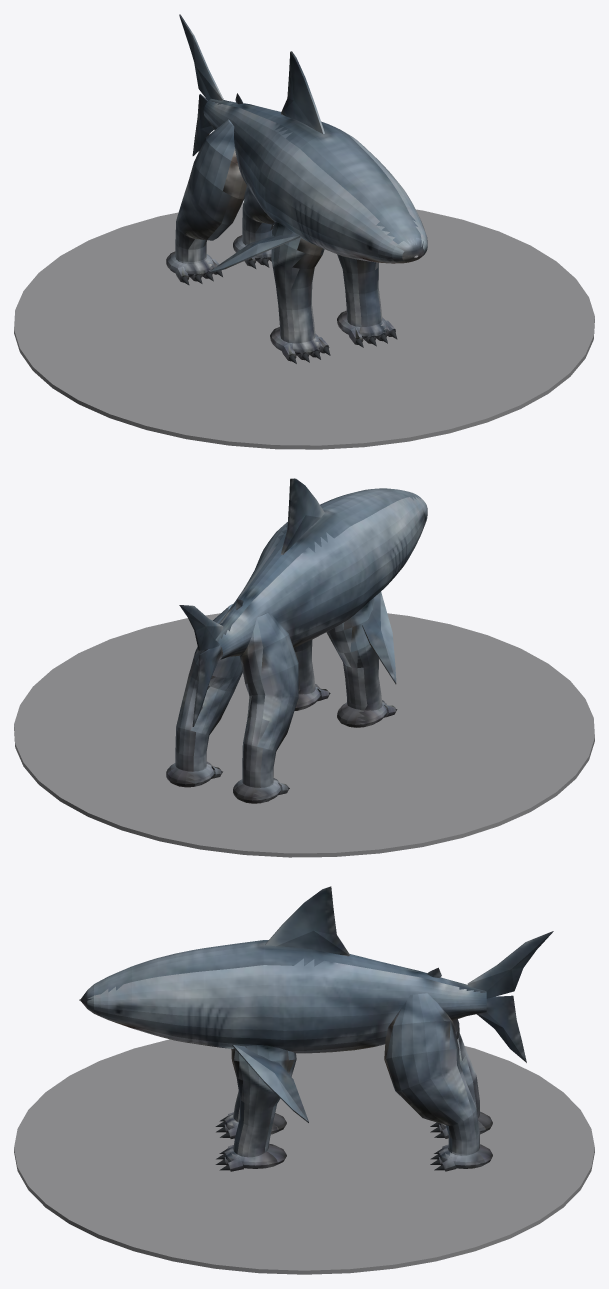
Rendered from tiburon_patas.glb.
3 views of the same model, one above another, from view 1: azimuth 30°, elevation 25°; view 2: azimuth 150°, elevation 25°; view 3: azimuth 270°, elevation 25° (orthographic).
Parts seen in each view (by area): view 1: TB_Suelo, TB_Cuerpo, TB_Pata_Tras_-1, TB_Pata_Del_-1, TB_Pata_Del_1, TB_Aleta_Dorsal, TB_Pata_Tras_1, TB_Cola_Alta, TB_Aleta_Pectoral_-1, TB_Cola_Baja, TB_PieT_-1_Planta, TB_PieD_1_Planta (+1 smaller); view 2: TB_Suelo, TB_Cuerpo, TB_Pata_Tras_-1, TB_Pata_Tras_1, TB_Pata_Del_-1, TB_Aleta_Dorsal, TB_Aleta_Pectoral_-1, TB_Cola_Alta, TB_Cola_Baja, TB_Pata_Del_1, TB_PieD_-1_Planta, TB_PieT_-1_Planta (+1 smaller); view 3: TB_Suelo, TB_Cuerpo, TB_Pata_Tras_1, TB_Pata_Del_1, TB_Aleta_Dorsal, TB_Cola_Alta, TB_Aleta_Pectoral_1, TB_Cola_Baja, TB_PieD_1_Planta, TB_Pata_Tras_-1, TB_PieT_1_Planta.
Boxes of the visible parts, x1=… form: TB_Suelo: x1=14, y1=202, x2=594, y2=449; TB_Cuerpo: x1=203, y1=98, x2=427, y2=263; TB_Pata_Tras_-1: x1=175, y1=119, x2=247, y2=263; TB_Pata_Del_-1: x1=271, y1=222, x2=324, y2=343; TB_Pata_Del_1: x1=337, y1=254, x2=382, y2=327; TB_Aleta_Dorsal: x1=281, y1=51, x2=324, y2=133; TB_Pata_Tras_1: x1=242, y1=187, x2=274, y2=245; TB_Cola_Alta: x1=179, y1=14, x2=223, y2=100; TB_Aleta_Pectoral_-1: x1=208, y1=233, x2=300, y2=273; TB_Cola_Baja: x1=192, y1=94, x2=213, y2=155; TB_PieT_-1_Planta: x1=166, y1=251, x2=213, y2=277; TB_PieD_1_Planta: x1=337, y1=310, x2=387, y2=339; TB_Suelo: x1=14, y1=613, x2=594, y2=857; TB_Cuerpo: x1=215, y1=488, x2=427, y2=659; TB_Pata_Tras_-1: x1=239, y1=612, x2=298, y2=787; TB_Pata_Tras_1: x1=175, y1=604, x2=242, y2=771; TB_Pata_Del_-1: x1=326, y1=598, x2=382, y2=710; TB_Aleta_Dorsal: x1=280, y1=478, x2=324, y2=554; TB_Aleta_Pectoral_-1: x1=362, y1=592, x2=396, y2=684; TB_Cola_Alta: x1=179, y1=605, x2=223, y2=650; TB_Cola_Baja: x1=192, y1=645, x2=221, y2=726; TB_Pata_Del_1: x1=293, y1=639, x2=315, y2=694; TB_PieD_-1_Planta: x1=337, y1=700, x2=387, y2=727; TB_PieT_-1_Planta: x1=233, y1=778, x2=281, y2=803; TB_Suelo: x1=14, y1=1039, x2=594, y2=1274; TB_Cuerpo: x1=79, y1=940, x2=486, y2=1053; TB_Pata_Tras_1: x1=384, y1=993, x2=479, y2=1155; TB_Pata_Del_1: x1=231, y1=1045, x2=296, y2=1157; TB_Aleta_Dorsal: x1=265, y1=886, x2=350, y2=956; TB_Cola_Alta: x1=467, y1=931, x2=553, y2=998; TB_Aleta_Pectoral_1: x1=232, y1=1045, x2=308, y2=1122; TB_Cola_Baja: x1=477, y1=995, x2=526, y2=1062; TB_PieD_1_Planta: x1=223, y1=1143, x2=286, y2=1168; TB_Pata_Tras_-1: x1=452, y1=1019, x2=479, y2=1117; TB_PieT_1_Planta: x1=438, y1=1144, x2=492, y2=1168.
Bounding box in the file's own units: 5.2 × 2.62 × 5.2.
48 materials, 31 textured.
